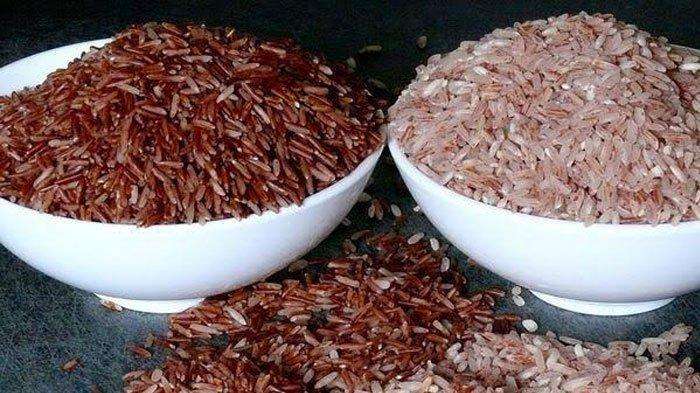Nasi Merah: (375, 32, 696, 243)
